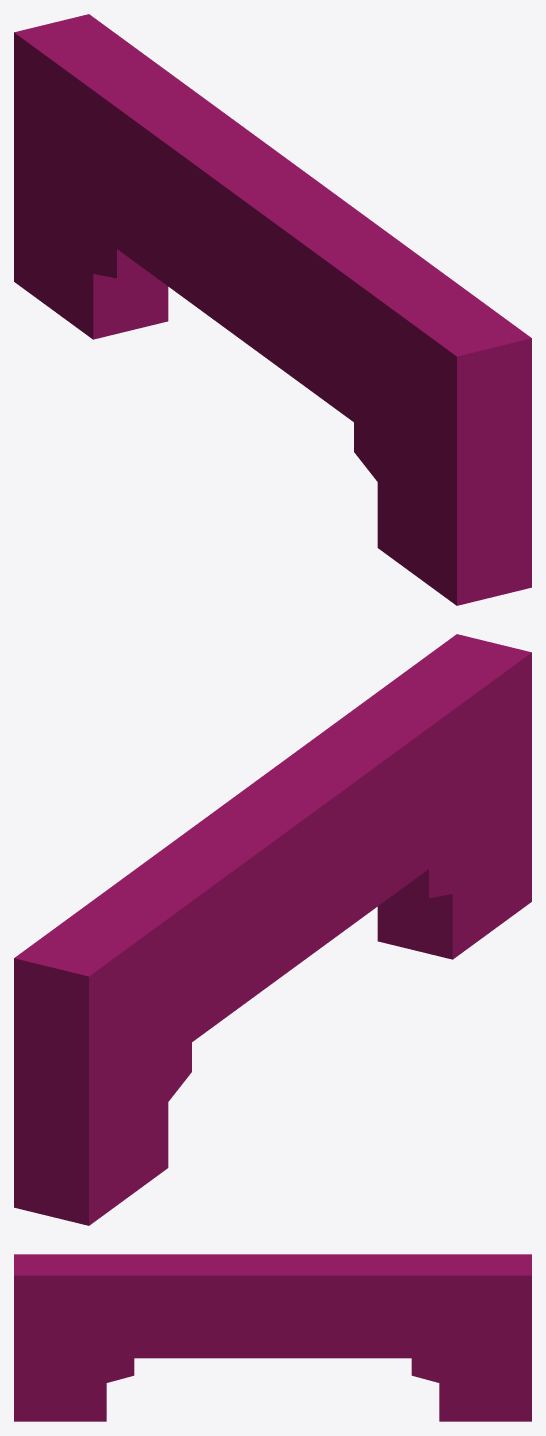
The model's file is Grave_Front.fbx.
3 renders of one model, top to bottom at view 1: azimuth 30°, elevation 25°; view 2: azimuth 150°, elevation 25°; view 3: azimuth 270°, elevation 25°, orthographic. The views are drawn at different scales.
Visible parts, largest first — view 1: Grave_Front; view 2: Grave_Front; view 3: Grave_Front.
Boxes of the visible parts, bbox=[...] form: Grave_Front: bbox=[14, 14, 531, 605]; Grave_Front: bbox=[14, 634, 531, 1225]; Grave_Front: bbox=[14, 1254, 531, 1421].
Size of the model in its own units: 1 by 3.17 by 10.21.
